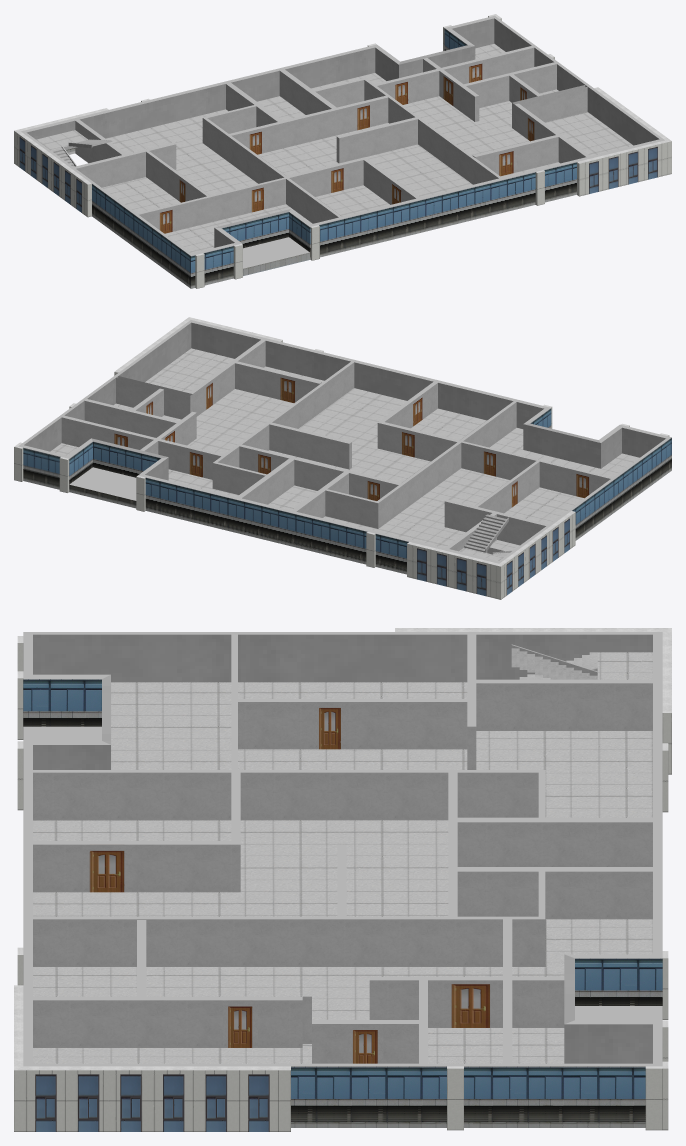
3 renders of one model, top to bottom at view 1: azimuth 30°, elevation 25°; view 2: azimuth 150°, elevation 25°; view 3: azimuth 270°, elevation 25°, orthographic. The views are drawn at different scales.
Parts seen in each view (by area): view 1: zj2.001; view 2: zj2.001; view 3: zj2.001.
Boxes of the visible parts, x1,y1,x2,y2 form: zj2.001: (14, 14, 671, 288); zj2.001: (14, 317, 671, 599); zj2.001: (14, 628, 671, 1131).
Bounding box in the file's own units: 56.65 × 4.62 × 35.63.
Materials: 18 (16 with a texture image).
